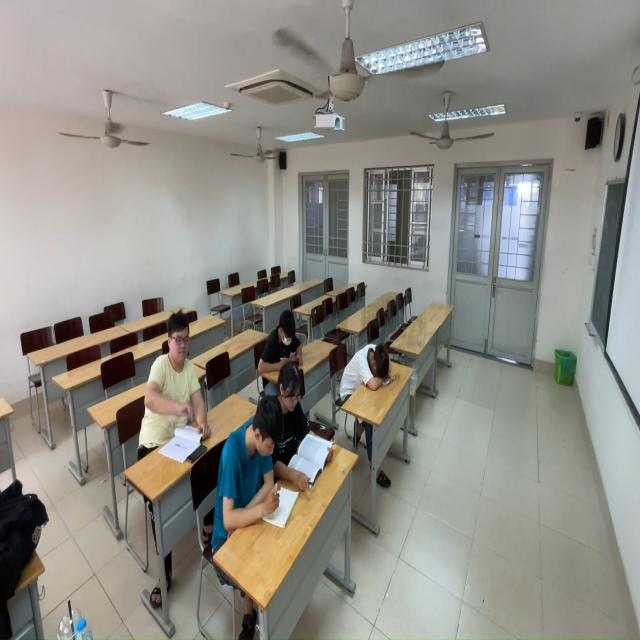read: (210, 392, 302, 545), (132, 307, 213, 471), (271, 359, 340, 494), (263, 304, 302, 380)
sleep: (344, 339, 403, 396)
